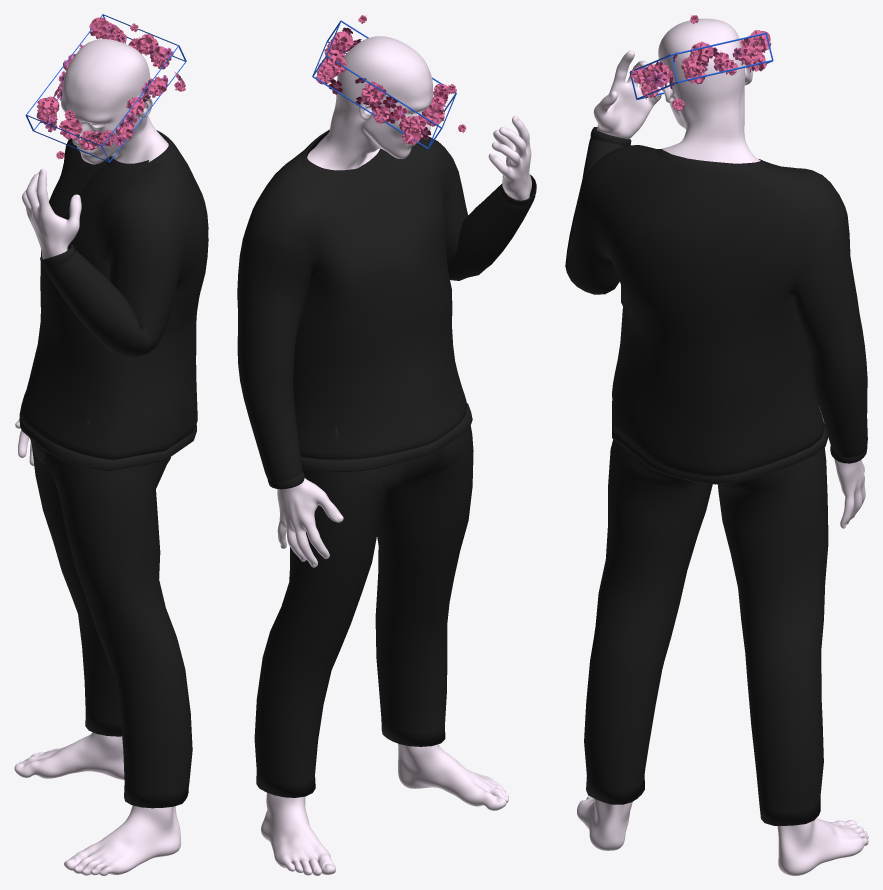
The picture shows the model from 3 angles, left to right: view 1: azimuth 30°, elevation 25°; view 2: azimuth 150°, elevation 25°; view 3: azimuth 270°, elevation 25°; orthographic projection. The views are drawn at different scales.
Parts seen in each view (by area): view 1: Long Shirt, trousers, body_mask, Cube; view 2: Long Shirt, trousers, body_mask, Cube; view 3: Long Shirt, trousers, body_mask, Cube.
Part boxes in pixels (x1,y1,x2,y2): Long Shirt: (19, 130, 208, 471); trousers: (30, 420, 192, 808); body_mask: (14, 39, 181, 875); Cube: (25, 14, 186, 162); Long Shirt: (237, 129, 536, 489); trousers: (254, 376, 473, 797); body_mask: (261, 36, 531, 875); Cube: (312, 20, 456, 149); Long Shirt: (565, 127, 867, 484); trousers: (584, 439, 828, 825); body_mask: (577, 18, 868, 875); Cube: (629, 32, 773, 99).
Size of the model in its own units: 0.4533 by 1.69 by 0.5532.
7 materials, 1 textured.
